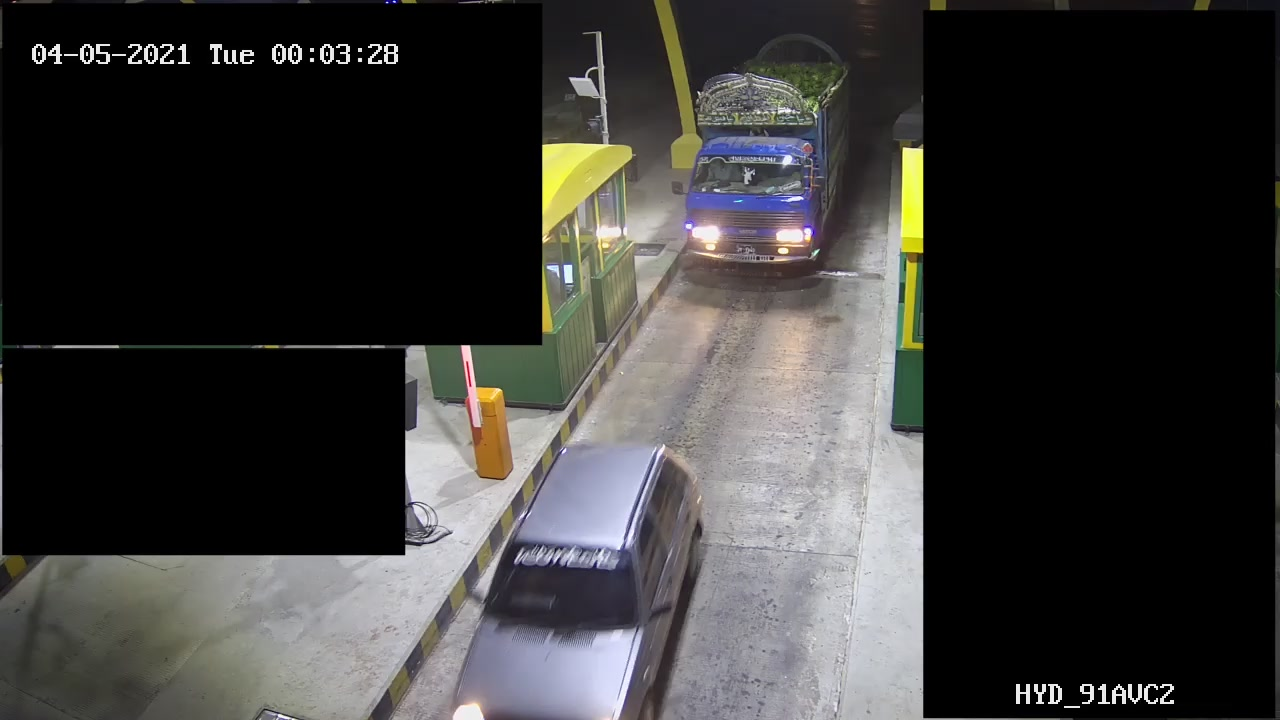F5: (674, 20, 858, 287)
